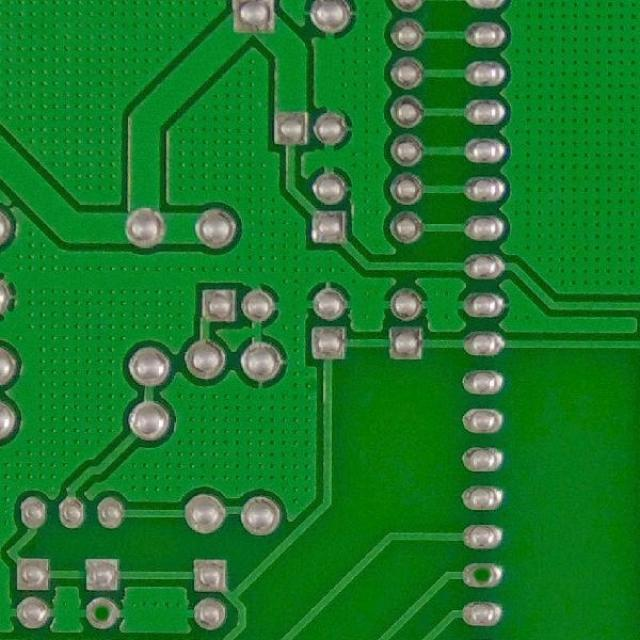missing_hole: (82, 596, 120, 630), (466, 562, 504, 595)
